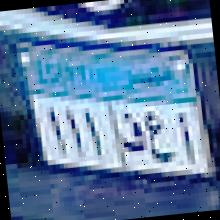1: (62, 104, 86, 167), (43, 103, 66, 157), (83, 106, 105, 162)
ain: (143, 108, 176, 169)
alif: (173, 109, 198, 167)
faa: (116, 110, 146, 158)
